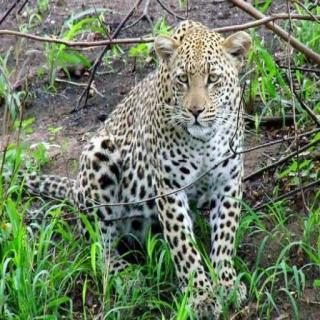Leopard: (66, 8, 280, 312)
